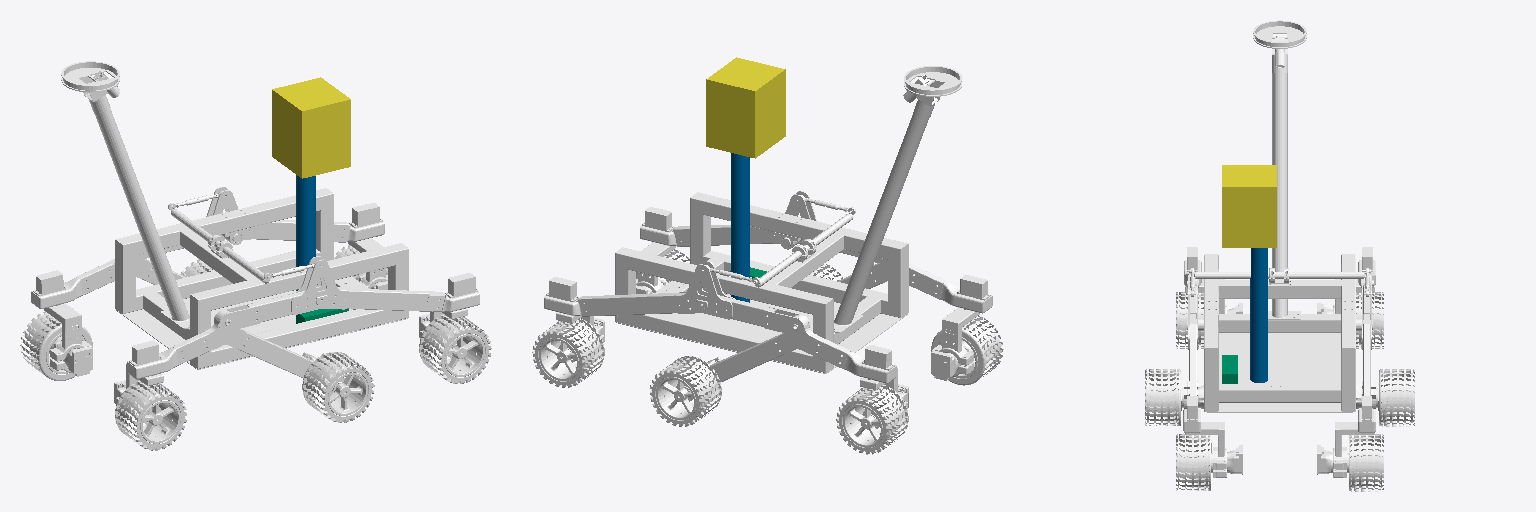
--- Facts derived from the render (not from the file) ---
Views: 3 orthographic renders of the robot side by side, from view 1: azimuth 30°, elevation 25°; view 2: azimuth 150°, elevation 25°; view 3: azimuth 270°, elevation 25°.
Robot: orthos — 45 links, 44 joints (25 revolute, 7 continuous, 1 prismatic, 11 fixed); root link base_link; default pose: all joints at 0.
Links seen in each view (by area): view 1: base_frame_link, drillmount_link, camera_mast, orthos_rocker_right, orthos_wheel_right_2, orthos_wheel_right_1, orthos_wheel_right_3, orthos_bogie_right, orthos_motor_left_3, orthos_rocker_left, mounting_plate, orthos_wheel_left_3 (+9 smaller); view 2: base_frame_link, drillmount_link, camera_mast, orthos_rocker_left, orthos_wheel_left_2, orthos_wheel_left_1, orthos_wheel_left_3, orthos_bogie_left, mounting_plate, drill_link, orthos_motor_right_3, orthos_rocker_right (+9 smaller); view 3: base_frame_link, mounting_plate, camera_mast, drillmount_link, drill_link, orthos_wheel_left_2, orthos_wheel_right_2, orthos_wheel_left_1, orthos_wheel_right_1, orthos_motor_right_1, orthos_motor_left_1, orthos_rotbar (+6 smaller).
Link boxes in pixels (box(x1,y1,x2,y2)): base_frame_link: box(115, 188, 408, 368); drillmount_link: box(272, 77, 350, 178); camera_mast: box(61, 61, 189, 328); orthos_rocker_right: box(214, 256, 445, 331); orthos_wheel_right_2: box(302, 352, 374, 422); orthos_wheel_right_1: box(419, 314, 491, 383); orthos_wheel_right_3: box(115, 381, 186, 450); orthos_bogie_right: box(172, 310, 313, 378); orthos_motor_left_3: box(44, 303, 92, 376); orthos_rocker_left: box(136, 187, 349, 260); mounting_plate: box(116, 276, 407, 369); orthos_wheel_left_3: box(20, 312, 92, 380); base_frame_link: box(615, 192, 908, 372); drillmount_link: box(706, 57, 785, 158); camera_mast: box(834, 66, 961, 333); orthos_rocker_left: box(578, 261, 809, 335); orthos_wheel_left_2: box(650, 356, 721, 426); orthos_wheel_left_1: box(532, 318, 604, 387); orthos_wheel_left_3: box(836, 385, 908, 454); orthos_bogie_left: box(710, 315, 850, 381); mounting_plate: box(616, 281, 907, 373); drill_link: box(731, 153, 749, 302); orthos_motor_right_3: box(931, 307, 979, 380); orthos_rocker_right: box(673, 191, 887, 264); base_frame_link: box(1204, 254, 1355, 411); mounting_plate: box(1207, 333, 1352, 412); camera_mast: box(1253, 20, 1306, 319); drillmount_link: box(1222, 165, 1276, 247); drill_link: box(1250, 248, 1267, 382); orthos_wheel_left_2: box(1379, 369, 1414, 426); orthos_wheel_right_2: box(1145, 369, 1180, 425); orthos_wheel_left_1: box(1349, 434, 1383, 491); orthos_wheel_right_1: box(1176, 434, 1211, 490); orthos_motor_right_1: box(1185, 422, 1242, 477); orthos_motor_left_1: box(1317, 422, 1374, 477); orthos_rotbar: box(1194, 268, 1364, 283).
Bounding box of the posed robot: 1.09 × 0.7545 × 0.9748 m (x, y, z).
26 mesh visuals loaded from 21 distinct referenced files (14 binary STL); not drawn: 7 (reference not matched to a file when rendering).

robot.urdf — orthos:
<?xml version="1.0" ?>
<!-- =================================================================================== -->
<!-- |    This document was autogenerated by xacro from orthos.xacro                   | -->
<!-- |    EDITING THIS FILE BY HAND IS NOT RECOMMENDED                                 | -->
<!-- =================================================================================== -->
<robot name="orthos">
  <!-- <xacro:include filename="$(find orthos_description)/urdf/ROS/orthos_arm_joint_pub.xacro"/>-->
  <!--<xacro:include filename="$(find orthos_description)/urdf/ROS/orthos_joint_pub.xacro" />

  <xacro:include filename="$(find orthos_description)/urdf/ROS/orthos_drive.xacro" />-->
  <link name="base_link"/>
  <link name="base_frame_link">
    <inertial>
      <origin rpy="0 0 0" xyz="0 0 0"/>
      <mass value="10"/>
      <inertia ixx="0.003" ixy="0" ixz="0" iyy="0.09" iyz="0" izz="0.09"/>
    </inertial>
    <visual>
      <origin rpy="0 0 0" xyz="0 0 0"/>
      <geometry>
        <mesh filename="package://orthos_description/meshes/base_frame.stl"/>
      </geometry>
      <material name="white">
        <color rgba="1 1 1 1"/>
      </material>
    </visual>
    <collision>
      <origin rpy="0 0 0" xyz="0 0 0"/>
      <geometry>
        <box size="0.8 0.160 0.040"/>
      </geometry>
    </collision>
  </link>
  <joint name="base_frame_joint" type="fixed">
    <origin rpy="0 0 0" xyz="0 0 0"/>
    <parent link="base_link"/>
    <child link="base_frame_link"/>
    <axis xyz="0 0 0"/>
  </joint>
  <!-- Rocker -->
  <link name="orthos_rocker_left">
    <inertial>
      <origin rpy="0 0 0" xyz="0 0 0"/>
      <mass value="1"/>
      <inertia ixx="0.316" ixy="0" ixz="0" iyy="0.166" iyz="0" izz="0.307"/>
    </inertial>
    <visual>
      <origin rpy="0 0 0" xyz="0 0 0"/>
      <geometry>
        <mesh filename="package://orthos_description/meshes/rocker_left.stl"/>
      </geometry>
      <material name="white">
        <color rgba="1 1 1 1"/>
      </material>
    </visual>
    <collision>
      <origin rpy="0 0 0" xyz="0 0 0"/>
      <geometry>
        <mesh filename="package://orthos_description/meshes/rocker_left.stl"/>
      </geometry>
    </collision>
  </link>
  <joint name="orthos_rocker_left_joint" type="revolute">
    <origin rpy="0 0 -1.5708" xyz="0.1502 0.24465 -0.060115"/>
    <limit effort="100" lower="-1.5708" upper="1.5708" velocity="3"/>
    <parent link="base_frame_link"/>
    <child link="orthos_rocker_left"/>
    <axis xyz="1 0 0"/>
  </joint>
  <!-- Bogie -->
  <link name="orthos_bogie_left">
    <inertial>
      <origin rpy="0 0 0" xyz="0 0 0"/>
      <mass value="1"/>
      <inertia ixx="0.1" ixy="0" ixz="0" iyy="0.1" iyz="0" izz="0.1"/>
    </inertial>
    <visual>
      <origin rpy="0 0 0" xyz="0 0 0"/>
      <geometry>
        <mesh filename="package://orthos_description/meshes/bogie_left.stl"/>
      </geometry>
      <material name="white">
        <color rgba="1 1 1 1"/>
      </material>
    </visual>
    <collision>
      <origin rpy="0 0 0" xyz="0 0 0"/>
      <geometry>
        <mesh filename="package://orthos_description/meshes/bogie_left.stl"/>
      </geometry>
    </collision>
  </link>
  <joint name="orthos_bogie_left_joint" type="revolute">
    <origin rpy="0 0 0" xyz="0 -0.276262 0"/>
    <limit effort="100" lower="-1.5708" upper="1.5708" velocity="3"/>
    <parent link="orthos_rocker_left"/>
    <child link="orthos_bogie_left"/>
    <axis xyz="1 0 0"/>
  </joint>
  <!-- Turn motor front-->
  <link name="orthos_turn_left_front">
    <inertial>
      <origin rpy="0 0 0" xyz="0 0 0"/>
      <mass value="1"/>
      <inertia ixx="0.1" ixy="0" ixz="0" iyy="0.1" iyz="0" izz="0.1"/>
    </inertial>
    <visual>
      <origin rpy="0 0 0" xyz="0 0 0"/>
      <geometry>
        <mesh filename="package://orthos_description/meshes/turn.stl"/>
      </geometry>
      <material name="white">
        <color rgba="1 1 1 1"/>
      </material>
    </visual>
    <collision>
      <origin rpy="0 0 0" xyz="0 0 0"/>
      <geometry>
        <mesh filename="package://orthos_description/meshes/turn.stl"/>
      </geometry>
    </collision>
  </link>
  <joint name="orthos_turn_left_front_joint" type="fixed">
    <origin rpy="0 0 0" xyz="0 0.364 -0.097"/>
    <parent link="orthos_rocker_left"/>
    <child link="orthos_turn_left_front"/>
    <axis xyz="0 0 0"/>
  </joint>
  <!-- Motor and wheel mounting-->
  <link name="orthos_motor_left_1">
    <inertial>
      <origin rpy="0 0 0" xyz="0 0 0"/>
      <mass value="1"/>
      <inertia ixx="0.1" ixy="0" ixz="0" iyy="0.1" iyz="0" izz="0.1"/>
    </inertial>
    <visual>
      <origin rpy="0 0 0" xyz="0 0 0"/>
      <geometry>
        <mesh filename="package://orthos_description/meshes/motor.stl"/>
      </geometry>
      <material name="white">
        <color rgba="1 1 1 1"/>
      </material>
    </visual>
    <collision>
      <origin rpy="0 0 0" xyz="0 0 0"/>
      <geometry>
        <mesh filename="package://orthos_description/meshes/motor.stl"/>
      </geometry>
    </collision>
  </link>
  <joint name="orthos_motor_left_1_joint" type="revolute">
    <origin rpy="0 0 0" xyz="0 0.04 -0.14"/>
    <limit effort="100" lower="-0.523599" upper="0.523599" velocity="3"/>
    <parent link="orthos_turn_left_front"/>
    <child link="orthos_motor_left_1"/>
    <axis xyz="0 0 1"/>
  </joint>
  <!-- Wheel front -->
  <link name="orthos_wheel_left_1">
    <inertial>
      <origin rpy="0 0 0" xyz="0 0 0"/>
      <mass value="1"/>
      <inertia ixx="0.1" ixy="0" ixz="0" iyy="0.1" iyz="0" izz="0.1"/>
    </inertial>
    <visual>
      <origin rpy="0 0 0" xyz="0 0 0"/>
      <geometry>
        <mesh filename="package://orthos_description/meshes/wheel.stl"/>
      </geometry>
      <material name="white">
        <color rgba="1 1 1 1"/>
      </material>
    </visual>
    <collision>
      <origin rpy="0 0 0" xyz="0 0 0"/>
      <geometry>
        <mesh filename="package://orthos_description/meshes/wheel.stl"/>
      </geometry>
    </collision>
  </link>
  <joint name="orthos_wheel_left_1_joint" type="continuous">
    <origin rpy="0 0 0" xyz="0 0 0"/>
    <parent link="orthos_motor_left_1"/>
    <child link="orthos_wheel_left_1"/>
    <axis xyz="1 0 0"/>
  </joint>
  <!-- Motor mid -->
  <link name="orthos_motor_left_2">
    <inertial>
      <origin rpy="0 0 0" xyz="0 0 0"/>
      <mass value="1"/>
      <inertia ixx="0.1" ixy="0" ixz="0" iyy="0.1" iyz="0" izz="0.1"/>
    </inertial>
    <visual>
      <origin rpy="0 0 0" xyz="0 0 0"/>
      <geometry>
        <mesh filename="package://orthos_description/meshes/motor_mid.stl"/>
      </geometry>
      <material name="white">
        <color rgba="1 1 1 1"/>
      </material>
    </visual>
    <collision>
      <origin rpy="0 0 0" xyz="0 0 0"/>
      <geometry>
        <mesh filename="package://orthos_description/meshes/motor_mid.stl"/>
      </geometry>
    </collision>
  </link>
  <joint name="orthos_motor_left_2_joint" type="fixed">
    <origin rpy="0 0 0" xyz="-0.0305 0.2852 -0.2205"/>
    <limit effort="100" lower="-0.523599" upper="0.523599" velocity="3"/>
    <parent link="orthos_bogie_left"/>
    <child link="orthos_motor_left_2"/>
    <axis xyz="1 0 0"/>
  </joint>
  <!-- Wheel mid -->
  <link name="orthos_wheel_left_2">
    <inertial>
      <origin rpy="0 0 0" xyz="0 0 0"/>
      <mass value="1"/>
      <inertia ixx="0.1" ixy="0" ixz="0" iyy="0.1" iyz="0" izz="0.1"/>
    </inertial>
    <visual>
      <origin rpy="0 0 0" xyz="0 0 0"/>
      <geometry>
        <mesh filename="package://orthos_description/meshes/wheel.stl"/>
      </geometry>
      <material name="white">
        <color rgba="1 1 1 1"/>
      </material>
    </visual>
    <collision>
      <origin rpy="0 0 0" xyz="0 0 0"/>
      <geometry>
        <mesh filename="package://orthos_description/meshes/motor.stl"/>
      </geometry>
    </collision>
  </link>
  <joint name="orthos_wheel_left_2_joint" type="continuous">
    <origin rpy="0 0 0" xyz="-0.055 0 0"/>
    <parent link="orthos_motor_left_2"/>
    <child link="orthos_wheel_left_2"/>
    <axis xyz="1 0 0"/>
  </joint>
  <!-- Turn motor rear -->
  <link name="orthos_turn_left_rear">
    <inertial>
      <origin rpy="0 0 0" xyz="0 0 0"/>
      <mass value="1"/>
      <inertia ixx="0.1" ixy="0" ixz="0" iyy="0.1" iyz="0" izz="0.1"/>
    </inertial>
    <visual>
      <origin rpy="0 0 0" xyz="0 0 0"/>
      <geometry>
        <mesh filename="package://orthos_description/meshes/turn_rear.stl"/>
      </geometry>
      <material name="white">
        <color rgba="1 1 1 1"/>
      </material>
    </visual>
    <collision>
      <origin rpy="0 0 0" xyz="0 0 0"/>
      <geometry>
        <mesh filename="package://orthos_description/meshes/turn_rear.stl"/>
      </geometry>
    </collision>
  </link>
  <joint name="orthos_turn_left_rear_joint" type="fixed">
    <origin rpy="0 0 0" xyz="0 -0.217 -0.0653"/>
    <parent link="orthos_bogie_left"/>
    <child link="orthos_turn_left_rear"/>
    <axis xyz="0 0 0"/>
  </joint>
  <!-- Motor and wheel mounting rear-->
  <link name="orthos_motor_left_3">
    <inertial>
      <origin rpy="0 0 0" xyz="0 0 0"/>
      <mass value="1"/>
      <inertia ixx="0.1" ixy="0" ixz="0" iyy="0.1" iyz="0" izz="0.1"/>
    </inertial>
    <visual>
      <origin rpy="0 0 0" xyz="0 0 0"/>
      <geometry>
        <mesh filename="package://orthos_description/meshes/motor.stl"/>
      </geometry>
      <material name="white">
        <color rgba="1 1 1 1"/>
      </material>
    </visual>
    <collision>
      <origin rpy="0 0 0" xyz="0 0 0"/>
      <geometry>
        <mesh filename="package://orthos_description/meshes/motor.stl"/>
      </geometry>
    </collision>
  </link>
  <joint name="orthos_motor_left_3_joint" type="revolute">
    <origin rpy="0 0 0" xyz="0 0 -0.15"/>
    <limit effort="100" lower="-0.523599" upper="0.523599" velocity="3"/>
    <parent link="orthos_turn_left_rear"/>
    <child link="orthos_motor_left_3"/>
    <axis xyz="0 0 1"/>
  </joint>
  <link name="orthos_wheel_left_3">
    <inertial>
      <origin rpy="0 0 0" xyz="0 0 0"/>
      <mass value="1"/>
      <inertia ixx="0.1" ixy="0" ixz="0" iyy="0.1" iyz="0" izz="0.1"/>
    </inertial>
    <visual>
      <origin rpy="0 0 0" xyz="0 0 0"/>
      <geometry>
        <mesh filename="package://orthos_description/meshes/wheel.stl"/>
      </geometry>
      <material name="white">
        <color rgba="1 1 1 1"/>
      </material>
    </visual>
    <collision>
      <origin rpy="0 0 0" xyz="0 0 0"/>
      <geometry>
        <mesh filename="package://orthos_description/meshes/wheel.stl"/>
      </geometry>
    </collision>
  </link>
  <joint name="orthos_wheel_left_3_joint" type="continuous">
    <origin rpy="0 0 0" xyz="0 0 0"/>
    <parent link="orthos_motor_left_3"/>
    <child link="orthos_wheel_left_3"/>
    <axis xyz="1 0 0"/>
  </joint>
  <transmission name="trans_wheel_left_1">
    <type>transmission_interface/SimpleTransmission</type>
    <joint name="orthos_wheel_left_1_joint">
      <hardwareInterface>hardware_interface/VelocityJointInterface</hardwareInterface>
    </joint>
    <actuator name="motor_wheel_left_1">
      <mechanicalReduction>100</mechanicalReduction>
    </actuator>
  </transmission>
  <transmission name="trans_wheel_left_2">
    <type>transmission_interface/SimpleTransmission</type>
    <joint name="orthos_wheel_left_2_joint">
      <hardwareInterface>hardware_interface/VelocityJointInterface</hardwareInterface>
    </joint>
    <actuator name="motor_wheel_left_2">
      <mechanicalReduction>100</mechanicalReduction>
    </actuator>
  </transmission>
  <transmission name="trans_wheel_left_3">
    <type>transmission_interface/SimpleTransmission</type>
    <joint name="orthos_wheel_left_3_joint">
      <hardwareInterface>hardware_interface/VelocityJointInterface</hardwareInterface>
    </joint>
    <actuator name="motor_wheel_left_3">
      <mechanicalReduction>100</mechanicalReduction>
    </actuator>
  </transmission>
  <transmission name="trans_turn_left_front">
    <type>transmission_interface/SimpleTransmission</type>
    <joint name="orthos_motor_left_1_joint">
      <hardwareInterface>hardware_interface/PositionJointInterface</hardwareInterface>
    </joint>
    <actuator name="motor_turn_left_front">
      <mechanicalReduction>100</mechanicalReduction>
    </actuator>
  </transmission>
  <transmission name="trans_motor_left_rear">
    <type>transmission_interface/SimpleTransmission</type>
    <joint name="orthos_motor_left_3_joint">
      <hardwareInterface>hardware_interface/PositionJointInterface</hardwareInterface>
    </joint>
    <actuator name="motor_turn_left_rear">
      <mechanicalReduction>100</mechanicalReduction>
    </actuator>
  </transmission>
  <link name="orthos_rocker_right">
    <inertial>
      <origin rpy="0 0 0" xyz="0 0 0"/>
      <mass value="1"/>
      <inertia ixx="0.316" ixy="0" ixz="0" iyy="0.166" iyz="0" izz="0.307"/>
    </inertial>
    <visual>
      <origin rpy="0 0 0" xyz="0 0 0"/>
      <geometry>
        <mesh filename="package://orthos_description/meshes/rocker_right.stl"/>
      </geometry>
      <material name="white">
        <color rgba="1 1 1 1"/>
      </material>
    </visual>
    <collision>
      <origin rpy="0 0 0" xyz="0 0 0"/>
      <geometry>
        <mesh filename="package://orthos_description/meshes/rocker_right.stl"/>
      </geometry>
    </collision>
  </link>
  <joint name="orthos_rocker_right_joint" type="revolute">
    <origin rpy="0 0 1.5708" xyz="0.1502 -0.24465 -0.060115"/>
    <limit effort="100" lower="-1.5708" upper="1.5708" velocity="3"/>
    <parent link="base_frame_link"/>
    <child link="orthos_rocker_right"/>
    <axis xyz="1 0 0"/>
  </joint>
  <link name="orthos_bogie_right">
    <inertial>
      <origin rpy="0 0 0" xyz="0 0 0"/>
      <mass value="1"/>
      <inertia ixx="0.1" ixy="0" ixz="0" iyy="0.1" iyz="0" izz="0.1"/>
    </inertial>
    <visual>
      <origin rpy="0 0 0" xyz="0 0 0"/>
      <geometry>
        <mesh filename="package://orthos_description/meshes/bogie_right.stl"/>
      </geometry>
      <material name="white">
        <color rgba="1 1 1 1"/>
      </material>
    </visual>
    <collision>
      <origin rpy="0 0 0" xyz="0 0 0"/>
      <geometry>
        <mesh filename="package://orthos_description/meshes/bogie_right.stl"/>
      </geometry>
    </collision>
  </link>
  <joint name="orthos_bogie_right_joint" type="revolute">
    <origin rpy="0 0 0" xyz="0 0.276262 0"/>
    <limit effort="100" lower="-1.5708" upper="1.5708" velocity="3"/>
    <parent link="orthos_rocker_right"/>
    <child link="orthos_bogie_right"/>
    <axis xyz="1 0 0"/>
  </joint>
  <link name="orthos_turn_right_front">
    <inertial>
      <origin rpy="0 0 0" xyz="0 0 0"/>
      <mass value="1"/>
      <inertia ixx="0.1" ixy="0" ixz="0" iyy="0.1" iyz="0" izz="0.1"/>
    </inertial>
    <visual>
      <origin rpy="0 0 0" xyz="0 0 0"/>
      <geometry>
        <mesh filename="package://orthos_description/meshes/turn.stl"/>
      </geometry>
      <material name="white">
        <color rgba="1 1 1 1"/>
      </material>
    </visual>
    <collision>
      <origin rpy="0 0 0" xyz="0 0 0"/>
      <geometry>
        <mesh filename="package://orthos_description/meshes/turn.stl"/>
      </geometry>
    </collision>
  </link>
  <joint name="orthos_turn_right_front_joint" type="fixed">
    <origin rpy="0 0 3.1415" xyz="0 -0.364 -0.097"/>
    <parent link="orthos_rocker_right"/>
    <child link="orthos_turn_right_front"/>
    <axis xyz="0 0 0"/>
  </joint>
  <link name="orthos_motor_right_1">
    <inertial>
      <origin rpy="0 0 0" xyz="0 0 0"/>
      <mass value="1"/>
      <inertia ixx="0.1" ixy="0" ixz="0" iyy="0.1" iyz="0" izz="0.1"/>
    </inertial>
    <visual>
      <origin rpy="0 0 0" xyz="0 0 0"/>
      <geometry>
        <mesh filename="package://orthos_description/meshes/motor.stl"/>
      </geometry>
      <material name="white">
        <color rgba="1 1 1 1"/>
      </material>
    </visual>
    <collision>
      <origin rpy="0 0 0" xyz="0 0 0"/>
      <geometry>
        <mesh filename="package://orthos_description/meshes/motor.stl"/>
      </geometry>
    </collision>
  </link>
  <joint name="orthos_motor_right_1_joint" type="revolute">
    <origin rpy="0 0 3.1415" xyz="0 0.04 -0.14"/>
    <limit effort="100" lower="-0.523599" upper="0.523599" velocity="3"/>
    <parent link="orthos_turn_right_front"/>
    <child link="orthos_motor_right_1"/>
    <axis xyz="0 0 1"/>
  </joint>
  <link name="orthos_wheel_right_1">
    <inertial>
      <origin rpy="0 0 0" xyz="0 0 0"/>
      <mass value="1"/>
      <inertia ixx="0.1" ixy="0" ixz="0" iyy="0.1" iyz="0" izz="0.1"/>
    </inertial>
    <visual>
      <origin rpy="0 0 0" xyz="0 0 0"/>
      <geometry>
        <mesh filename="package://orthos_description/meshes/wheel.stl"/>
      </geometry>
      <material name="white">
        <color rgba="1 1 1 1"/>
      </material>
    </visual>
    <collision>
      <origin rpy="0 0 0" xyz="0 0 0"/>
      <geometry>
        <mesh filename="package://orthos_description/meshes/wheel.stl"/>
      </geometry>
    </collision>
  </link>
  <joint name="orthos_wheel_right_1_joint" type="continuous">
    <origin rpy="0 0 0" xyz="0 0 0"/>
    <parent link="orthos_motor_right_1"/>
    <child link="orthos_wheel_right_1"/>
    <axis xyz="1 0 0"/>
  </joint>
  <link name="orthos_motor_right_2">
    <inertial>
      <origin rpy="0 0 0" xyz="0 0 0"/>
      <mass value="1"/>
      <inertia ixx="0.1" ixy="0" ixz="0" iyy="0.1" iyz="0" izz="0.1"/>
    </inertial>
    <visual>
      <origin rpy="0 0 0" xyz="0 0 0"/>
      <geometry>
        <mesh filename="package://orthos_description/meshes/motor_mid.stl"/>
      </geometry>
      <material name="white">
        <color rgba="1 1 1 1"/>
      </material>
    </visual>
    <collision>
      <origin rpy="0 0 0" xyz="0 0 0"/>
      <geometry>
        <mesh filename="package://orthos_description/meshes/motor_mid.stl"/>
      </geometry>
    </collision>
  </link>
  <joint name="orthos_motor_right_2_joint" type="fixed">
    <origin rpy="-1.97920340718 0 0" xyz="-0.0305 -0.2852 -0.2205"/>
    <limit effort="100" lower="-0.523599" upper="0.523599" velocity="3"/>
    <parent link="orthos_bogie_right"/>
    <child link="orthos_motor_right_2"/>
    <axis xyz="1 0 0"/>
  </joint>
  <link name="orthos_wheel_right_2">
    <inertial>
      <origin rpy="0 0 0" xyz="0 0 0"/>
      <mass value="1"/>
      <inertia ixx="0.1" ixy="0" ixz="0" iyy="0.1" iyz="0" izz="0.1"/>
    </inertial>
    <visual>
      <origin rpy="0 0 0" xyz="0 0 0"/>
      <geometry>
        <mesh filename="package://orthos_description/meshes/wheel.stl"/>
      </geometry>
      <material name="white">
        <color rgba="1 1 1 1"/>
      </material>
    </visual>
    <collision>
      <origin rpy="0 0 0" xyz="0 0 0"/>
      <geometry>
        <mesh filename="package://orthos_description/meshes/motor.stl"/>
      </geometry>
    </collision>
  </link>
  <joint name="orthos_wheel_right_2_joint" type="continuous">
    <origin rpy="0 0 0" xyz="-0.055 0 0"/>
    <parent link="orthos_motor_right_2"/>
    <child link="orthos_wheel_right_2"/>
    <axis xyz="1 0 0"/>
  </joint>
  <link name="orthos_turn_right_rear">
    <inertial>
      <origin rpy="0 0 0" xyz="0 0 0"/>
      <mass value="1"/>
      <inertia ixx="0.1" ixy="0" ixz="0" iyy="0.1" iyz="0" izz="0.1"/>
    </inertial>
    <visual>
      <origin rpy="0 0 0" xyz="0 0 0"/>
      <geometry>
        <mesh filename="package://orthos_description/meshes/turn_rear.stl"/>
      </geometry>
      <material name="white">
        <color rgba="1 1 1 1"/>
      </material>
    </visual>
    <collision>
      <origin rpy="0 0 0" xyz="0 0 0"/>
      <geometry>
        <mesh filename="package://orthos_description/meshes/turn_rear.stl"/>
      </geometry>
    </collision>
  </link>
  <joint name="orthos_turn_right_rear_joint" type="fixed">
    <origin rpy="0 0 3.1415" xyz="0 0.217 -0.0653"/>
    <parent link="orthos_bogie_right"/>
    <child link="orthos_turn_right_rear"/>
    <axis xyz="0 0 0"/>
  </joint>
  <link name="orthos_motor_right_3">
    <inertial>
      <origin rpy="0 0 0" xyz="0 0 0"/>
      <mass value="1"/>
      <inertia ixx="0.1" ixy="0" ixz="0" iyy="0.1" iyz="0" izz="0.1"/>
    </inertial>
    <visual>
      <origin rpy="0 0 0" xyz="0 0 0"/>
      <geometry>
        <mesh filename="package://orthos_description/meshes/motor.stl"/>
      </geometry>
      <material name="white">
        <color rgba="1 1 1 1"/>
      </material>
    </visual>
    <collision>
      <origin rpy="0 0 0" xyz="0 0 0"/>
      <geometry>
        <mesh filename="package://orthos_description/meshes/motor.stl"/>
      </geometry>
    </collision>
  </link>
  <joint name="orthos_motor_right_3_joint" type="revolute">
    <origin rpy="0 0 3.1415" xyz="0 0 -0.15"/>
    <limit effort="100" lower="-0.523599" upper="0.523599" velocity="3"/>
    <parent link="orthos_turn_right_rear"/>
    <child link="orthos_motor_right_3"/>
    <axis xyz="0 0 1"/>
  </joint>
  <link name="orthos_wheel_right_3">
    <inertial>
      <origin rpy="0 0 0" xyz="0 0 0"/>
      <mass value="1"/>
      <inertia ixx="0.1" ixy="0" ixz="0" iyy="0.1" iyz="0" izz="0.1"/>
    </inertial>
    <visual>
      <origin rpy="0 0 0" xyz="0 0 0"/>
      <geometry>
        <mesh filename="package://orthos_description/meshes/wheel.stl"/>
      </geometry>
      <material name="white">
        <color rgba="1 1 1 1"/>
      </material>
    </visual>
    <collision>
      <origin rpy="0 0 0" xyz="0 0 0"/>
      <geometry>
        <mesh filename="package://orthos_description/meshes/wheel.stl"/>
      </geometry>
    </collision>
  </link>
  <joint name="orthos_wheel_right_3_joint" type="continuous">
    <origin rpy="0 0 0" xyz="0 0 0"/>
    <parent link="orthos_motor_right_3"/>
    <child link="orthos_wheel_right_3"/>
    <axis xyz="1 0 0"/>
  </joint>
  <transmission name="trans_wheel_right_1">
    <type>transmission_interface/SimpleTransmission</type>
    <joint name="orthos_wheel_right_1_joint">
      <hardwareInterface>hardware_interface/VelocityJointInterface</hardwareInterface>
      <!-- <hardwareInterface>hardware_interface/EffortJointInterface</hardwareInterface> 
      Just with RobotHW, not with Gazebo-->
    </joint>
    <actuator name="motor_wheel_right_1">
      <mechanicalReduction>100</mechanicalReduction>
    </actuator>
  </transmission>
  <transmission name="trans_wheel_right_2">
    <type>transmission_interface/SimpleTransmission</type>
    <joint name="orthos_wheel_right_2_joint">
      <hardwareInterface>hardware_interface/VelocityJointInterface</hardwareInterface>
    </joint>
    <actuator name="motor_wheel_right_2">
      <mechanicalReduction>100</mechanicalReduction>
    </actuator>
  </transmission>
  <transmission name="trans_wheel_right_3">
    <type>transmission_interface/SimpleTransmission</type>
    <joint name="orthos_wheel_right_3_joint">
      <hardwareInterface>hardware_interface/VelocityJointInterface</hardwareInterface>
    </joint>
    <actuator name="motor_wheel_right_3">
      <mechanicalReduction>100</mechanicalReduction>
    </actuator>
  </transmission>
  <transmission name="trans_turn_right_front">
    <type>transmission_interface/SimpleTransmission</type>
    <joint name="orthos_motor_right_1_joint">
      <hardwareInterface>hardware_interface/PositionJointInterface</hardwareInterface>
    </joint>
    <actuator name="motor_turn_right_front">
      <mechanicalReduction>100</mechanicalReduction>
    </actuator>
  </transmission>
  <transmission name="trans_turn_right_rear">
    <type>transmission_interface/SimpleTransmission</type>
    <joint name="orthos_motor_right_3_joint">
      <hardwareInterface>hardware_interface/PositionJointInterface</hardwareInterface>
    </joint>
    <actuator name="motor_wheel_right_3">
      <mechanicalReduction>100</mechanicalReduction>
    </actuator>
  </transmission>
  <link name="virtual_link_1">
    <inertial>
      <mass value="0.025"/>
      <inertia ixx="5.8083e-4" ixy="0" ixz="0" iyy="3.0833e-5" iyz="0" izz="5.9083e-4"/>
    </inertial>
  </link>
  <link name="virtual_link_2">
    <inertial>
      <mass value="0.025"/>
      <inertia ixx="5.8083e-4" ixy="0" ixz="0" iyy="3.0833e-5" iyz="0" izz="5.9083e-4"/>
    </inertial>
  </link>
  <link name="virtual_link_3">
    <inertial>
      <mass value="0.025"/>
      <inertia ixx="5.8083e-4" ixy="0" ixz="0" iyy="3.0833e-5" iyz="0" izz="5.9083e-4"/>
    </inertial>
  </link>
  <link name="virtual_link_4">
    <inertial>
      <mass value="0.025"/>
      <inertia ixx="5.8083e-4" ixy="0" ixz="0" iyy="3.0833e-5" iyz="0" izz="5.9083e-4"/>
    </inertial>
  </link>
  <joint name="right_rocker_virtual_1" type="revolute">
    <origin rpy="0 0 0" xyz="0 0.002 0.095"/>
    <limit effort="100" lower="-0.349066" upper="0.349066" velocity="3"/>
    <parent link="orthos_rocker_right"/>
    <child link="virtual_link_1"/>
    <axis xyz="1 0 0"/>
  </joint>
  <joint name="virtual_1_2" type="revolute">
    <origin rpy="0 0 0" xyz="0 0 0"/>
    <limit effort="100" lower="-0.349066" upper="0.349066" velocity="3"/>
    <parent link="virtual_link_1"/>
    <child link="virtual_link_2"/>
    <axis xyz="0 1 0"/>
  </joint>
  <link name="orthos_spanner_right">
    <inertial>
      <origin rpy="0 0 0" xyz="0 0 0"/>
      <mass value="1"/>
      <inertia ixx="0.1" ixy="0" ixz="0" iyy="0.1" iyz="0" izz="0.1"/>
    </inertial>
    <visual>
      <origin rpy="0 0 0" xyz="0 0 0"/>
      <geometry>
        <mesh filename="package://orthos_description/meshes/spanner.stl"/>
      </geometry>
      <material name="white">
        <color rgba="1 1 1 1"/>
      </material>
    </visual>
    <collision>
      <origin rpy="0 0 0" xyz="0 0 0"/>
      <geometry>
        <mesh filename="package://orthos_description/meshes/spanner.stl"/>
      </geometry>
    </collision>
  </link>
  <joint name="virtual_2_spanner_right" type="revolute">
    <origin rpy="0 0 0" xyz="0 0 0"/>
    <limit effort="100" lower="-0.349066" upper="0.349066" velocity="3"/>
    <parent link="virtual_link_2"/>
    <child link="orthos_spanner_right"/>
    <axis xyz="0 0 1"/>
  </joint>
  <joint name="spanner_right_virtual_3" type="revolute">
    <origin rpy="0 0 0" xyz="0 0.1505 0"/>
    <limit effort="100" lower="-0.349066" upper="0.349066" velocity="3"/>
    <parent link="orthos_spanner_right"/>
    <child link="virtual_link_3"/>
    <axis xyz="1 0 0"/>
  </joint>
  <joint name="rotbar_virtual_4" type="revolute">
    <origin rpy="0 0 0" xyz="0 0.235 0"/>
    <limit effort="100" lower="-0.349066" upper="0.349066" velocity="3"/>
    <parent link="orthos_rotbar"/>
    <child link="virtual_link_4"/>
    <axis xyz="1 0 0"/>
    <!-- X axis of base_frame is y-axis of right_rocker which should be the axis here-->
  </joint>
  <link name="virtual_link_5">
    <inertial>
      <mass value="0.025"/>
      <inertia ixx="5.8083e-4" ixy="0" ixz="0" iyy="3.0833e-5" iyz="0" izz="5.9083e-4"/>
    </inertial>
  </link>
  <link name="virtual_link_6">
    <inertial>
      <mass value="0.025"/>
      <inertia ixx="5.8083e-4" ixy="0" ixz="0" iyy="3.0833e-5" iyz="0" izz="5.9083e-4"/>
    </inertial>
  </link>
  <link name="virtual_link_7">
    <inertial>
      <mass value="0.025"/>
      <inertia ixx="5.8083e-4" ixy="0" ixz="0" iyy="3.0833e-5" iyz="0" izz="5.9083e-4"/>
    </inertial>
  </link>
  <link name="virtual_link_8">
    <inertial>
      <mass value="0.025"/>
      <inertia ixx="5.8083e-4" ixy="0" ixz="0" iyy="3.0833e-5" iyz="0" izz="5.9083e-4"/>
    </inertial>
  </link>
  <joint name="left_rocker_virtual_5" type="revolute">
    <origin rpy="0 0 0" xyz="0 -0.002 0.095"/>
    <limit effort="100" lower="-0.349066" upper="0.349066" velocity="3"/>
    <parent link="orthos_rocker_left"/>
    <child link="virtual_link_5"/>
    <axis xyz="1 0 0"/>
  </joint>
  <joint name="virtual_5_6" type="revolute">
    <origin rpy="0 0 0" xyz="0 0 0"/>
    <limit effort="100" lower="-0.349066" upper="0.349066" velocity="3"/>
    <parent link="virtual_link_5"/>
    <child link="virtual_link_6"/>
    <axis xyz="0 1 0"/>
  </joint>
  <link name="orthos_spanner_left">
    <inertial>
      <origin rpy="0 0 0" xyz="0 0 0"/>
      <mass value="1"/>
      <inertia ixx="0.1" ixy="0" ixz="0" iyy="0.1" iyz="0" izz="0.1"/>
    </inertial>
    <visual>
      <origin rpy="0 0 0" xyz="0 0 0"/>
      <geometry>
        <mesh filename="package://orthos_description/meshes/spanner.stl"/>
      </geometry>
      <material name="white">
        <color rgba="1 1 1 1"/>
      </material>
    </visual>
    <collision>
      <origin rpy="0 0 0" xyz="0 0 0"/>
      <geometry>
        <mesh filename="package://orthos_description/meshes/spanner.stl"/>
      </geometry>
    </collision>
  </link>
  <joint name="virtual_6_spanner_left" type="revolute">
    <origin rpy="3.1415 0 0" xyz="0 0 0"/>
    <limit effort="100" lower="-0.349066" upper="0.349066" velocity="3"/>
    <parent link="virtual_link_6"/>
    <child link="orthos_spanner_left"/>
    <axis xyz="0 0 1"/>
  </joint>
  <joint name="spanner_left_virtual_7" type="revolute">
    <origin rpy="0 0 0" xyz="0 0.1505 0"/>
    <limit effort="100" lower="-0.349066" upper="0.349066" velocity="3"/>
    <parent link="orthos_spanner_left"/>
    <child link="virtual_link_7"/>
    <axis xyz="1 0 0"/>
  </joint>
  <joint name="rotbar_virtual_8" type="revolute">
    <origin rpy="0 0 0" xyz="0 -0.235 0"/>
    <limit effort="100" lower="-0.349066" upper="0.349066" velocity="3"/>
    <parent link="orthos_rotbar"/>
    <child link="virtual_link_8"/>
    <axis xyz="1 0 0"/>
    <!-- X axis of base_frame is y-axis of right_rocker which should be the axis here-->
  </joint>
  <!-- Base frame to rotbar -->
  <link name="orthos_rotbar">
    <inertial>
      <origin rpy="0 0 0" xyz="0 0 0"/>
      <mass value="1"/>
      <inertia ixx="0.1" ixy="0" ixz="0" iyy="0.1" iyz="0" izz="0.1"/>
    </inertial>
    <visual>
      <origin rpy="0 0 0" xyz="0 0 0"/>
      <geometry>
        <mesh filename="package://orthos_description/meshes/rotbar.stl"/>
      </geometry>
      <material name="white">
        <color rgba="1 1 1 1"/>
      </material>
    </visual>
    <collision>
      <origin rpy="0 0 0" xyz="0 0 0"/>
      <geometry>
        <mesh filename="package://orthos_description/meshes/rotbar.stl"/>
      </geometry>
    </collision>
  </link>
  <joint name="orthos_rotbar_joint" type="revolute">
    <origin rpy="0 0 0" xyz="0 0 0.045"/>
    <limit effort="100" lower="-1.5708" upper="1.5708" velocity="3"/>
    <parent link="base_frame_link"/>
    <child link="orthos_rotbar"/>
    <axis xyz="0 0 1"/>
  </joint>
  <!-- Right spanner to differential and loop with base_frame-->
  <gazebo>
    <joint name="closed_loop_joint_right" type="revolute">
      <parent>virtual_link_4</parent>
      <child>virtual_link_3</child>
      <pose>0 0 0 0 0 0</pose>
      <axis>
        <xyz>1 0 0</xyz>
      </axis>
    </joint>
  </gazebo>
  <!-- Left spanner to differential and loop with base_frame-->
  <gazebo>
    <joint name="closed_loop_joint_left" type="revolute">
      <parent>virtual_link_8</parent>
      <child>virtual_link_7</child>
      <pose>0 0 0 0 0 0</pose>
      <axis>
        <xyz>1 0 0</xyz>
      </axis>
    </joint>
  </gazebo>
  <link name="camera_mast">
    <inertial>
      <origin rpy="0 0 0" xyz="0 0 0"/>
      <mass value="2.56"/>
      <inertia ixx="0.007" ixy="0" ixz="0" iyy="0.008" iyz="0" izz="0.014"/>
    </inertial>
    <visual>
      <origin rpy="0 0 0" xyz="0 0 0"/>
      <geometry>
        <mesh filename="package://orthos_description/meshes/camera_mast.stl"/>
      </geometry>
      <material name="white">
        <color rgba="1 1 1 1"/>
      </material>
    </visual>
    <collision>
      <origin rpy="0 0 0" xyz="0.08 0 -0.025"/>
      <geometry>
        <mesh filename="package://orthos_description/meshes/camera_mast.stl"/>
      </geometry>
    </collision>
  </link>
  <joint name="camera_mast_joint" type="fixed">
    <origin rpy="0 0 -1.5708" xyz="-0.1155 0 -0.1559"/>
    <parent link="base_frame_link"/>
    <child link="camera_mast"/>
    <axis xyz="0 0 0"/>
  </joint>
  <link name="mounting_plate">
    <inertial>
      <origin rpy="0 0 0" xyz="0 0 0"/>
      <mass value="4.35"/>
      <inertia ixx="0.133" ixy="0" ixz="0" iyy="0.278" iyz="0" izz="0.410"/>
    </inertial>
    <visual>
      <origin rpy="0 0 0" xyz="0 0 0"/>
      <geometry>
        <mesh filename="package://orthos_description/meshes/mounting_plate.stl"/>
      </geometry>
      <material name="white">
        <color rgba="1 1 1 1"/>
      </material>
    </visual>
    <collision>
      <origin rpy="0 0 0" xyz="0 0 0"/>
      <geometry>
        <mesh filename="package://orthos_description/meshes/mounting_plate.stl"/>
      </geometry>
    </collision>
  </link>
  <joint name="mounting_plate_joint" type="fixed">
    <origin rpy="0 0 0" xyz="0.12284 0 -0.19806"/>
    <parent link="base_frame_link"/>
    <child link="mounting_plate"/>
    <axis xyz="0 0 0"/>
  </joint>
  <!-- ++++++++++++++++++++++++++++++ PROPERTIES ++++++++++++++++++++++++++++++ -->
  <!-- LINK COORDINATES AND RPY -->
  <!-- JOINT COORDINATES AND RPY -->
  <!-- JOINT AXES -->
  <!-- MESH PATHS -->
  <!-- MASSES -->
  <!-- INERTIAS -->
  <gazebo>
    <plugin filename="libgazebo_ros_control.so" name="gazebo_ros_control">
      <robotNamespace>/</robotNamespace>
      <robotSimType>gazebo_ros_control/DefaultRobotHWSim</robotSimType>
      <legacyModeNS>true</legacyModeNS>
    </plugin>
  </gazebo>
  <!-- ++++++++++++++++++++++++++++++ BASE LINK ++++++++++++++++++++++++++++++ -->
  <joint name="arm_base_joint" type="fixed">
    <parent link="base_frame_link"/>
    <child link="arm_base_link"/>
    <origin rpy="0 0 -1.5708 " xyz="0.4635 0.1776 0.0233"/>
  </joint>
  <link name="arm_base_link">
    <visual>
      <origin rpy="0 0 0" xyz="0 0 0"/>
      <geometry>
        <mesh filename="package://atalante_arm_description/meshes/Base.stl" scale="0.001 0.001 0.001"/>
      </geometry>
    </visual>
    <collision>
      <geometry>
        <mesh filename="package://atalante_arm_description/meshes/Base.stl" scale="0.001 0.001 0.001"/>
      </geometry>
    </collision>
  </link>
  <!-- ++++++++++++++++++++++++++++++ BASE JOINT ++++++++++++++++++++++++++++++ -->
  <joint name="base_joint" type="revolute">
    <parent link="arm_base_link"/>
    <child link="shoulder_link"/>
    <origin rpy="0 0 0" xyz="0 0 0.071"/>
    <limit effort="100" lower="-3.14" upper="3.14" velocity="10"/>
    <axis xyz="0 0 1"/>
  </joint>
  <!-- ++++++++++++++++++++++++++++++ BASE JOINT TRANSMISSION ++++++++++++++++++++++++++++++ -->
  <transmission name="base_joint_transmission">
    <type>transmission_interface/SimpleTransmission</type>
    <joint name="base_joint">
      <hardwareInterface>hardware_interface/PositionJointInterface</hardwareInterface>
    </joint>
    <actuator name="base_joint_actuator">
      <mechanicalReduction>100</mechanicalReduction>
      <hardwareInterface>hardware_interface/PositionJointInterface</hardwareInterface>
    </actuator>
  </transmission>
  <!-- ++++++++++++++++++++++++++++++ SHOULDER LINK ++++++++++++++++++++++++++++++ -->
  <link name="shoulder_link">
    <visual>
      <origin rpy="0 0 0" xyz="0 0 0"/>
      <geometry>
        <mesh filename="package://atalante_arm_description/meshes/Shoulder.stl" scale="0.001 0.001 0.001"/>
      </geometry>
    </visual>
    <inertial>
      <origin xyz="-1.12936485 0.29570568 58.23001957"/>
      <mass value="2.8"/>
      <inertia ixx="5729.1580306" ixy="2.845e-05" ixz="197.21313189" iyy="7045.05328785" iyz="6.062e-05" izz="6139.13243245"/>
    </inertial>
    <collision>
      <geometry>
        <mesh filename="package://atalante_arm_description/meshes/Shoulder.stl" scale="0.001 0.001 0.001"/>
      </geometry>
    </collision>
  </link>
  <!-- ++++++++++++++++++++++++++++++ SHOULDER JOINT ++++++++++++++++++++++++++++++ -->
  <joint name="shoulder_joint" type="revolute">
    <parent link="shoulder_link"/>
    <child link="upperarm_link"/>
    <origin rpy="0 0 0" xyz="0.06 0 0.077"/>
    <limit effort="100" lower="-3.14" upper="3.14" velocity="10"/>
    <axis xyz="1 0 0"/>
  </joint>
  <!-- ++++++++++++++++++++++++++++++ SHOULDER JOINT TRANSMISSION ++++++++++++++++++++++++++++++ -->
  <transmission name="shoulder_joint_transmission">
    <type>transmission_interface/SimpleTransmission</type>
    <joint name="shoulder_joint">
      <hardwareInterface>hardware_interface/PositionJointInterface</hardwareInterface>
    </joint>
    <actuator name="shoulder_joint_actuator">
      <mechanicalReduction>100</mechanicalReduction>
      <hardwareInterface>hardware_interface/PositionJointInterface</hardwareInterface>
    </actuator>
  </transmission>
  <!-- ++++++++++++++++++++++++++++++ UPPERARM LINK ++++++++++++++++++++++++++++++ -->
  <link name="upperarm_link">
    <visual>
      <origin rpy="0 0 0" xyz="0 0 0"/>
      <geometry>
        <mesh filename="package://atalante_arm_description/meshes/Upperarm.stl" scale="0.001 0.001 0.001"/>
      </geometry>
    </visual>
    <inertial>
      <origin xyz="25.63382974 461.72564539 -0.00385837"/>
      <mass value="1.6"/>
      <inertia ixx="39997.27845498" ixy="-563.40936849" ixz="0.0590568" iyy="1979.00415855" iyz="0.04589176" izz="39939.20953944"/>
    </inertial>
    <collision>
      <geometry>
        <mesh filename="package://atalante_arm_description/meshes/Upperarm.stl" scale="0.001 0.001 0.001"/>
      </geometry>
    </collision>
  </link>
  <!-- ++++++++++++++++++++++++++++++ UPPERARM JOINT ++++++++++++++++++++++++++++++ -->
  <joint name="upperarm_joint" type="revolute">
    <parent link="upperarm_link"/>
    <child link="lowerarm_link"/>
    <origin rpy="0 0 0" xyz="0.0395 0 0.52"/>
    <limit effort="100" lower="-3.14" upper="3.14" velocity="10"/>
    <axis xyz="1 0 0"/>
  </joint>
  <!-- ++++++++++++++++++++++++++++++ UPPERARM JOINT TRANSMISSION ++++++++++++++++++++++++++++++ -->
  <transmission name="upperarm_joint_transmission">
    <type>transmission_interface/SimpleTransmission</type>
    <joint name="upperarm_joint">
      <hardwareInterface>hardware_interface/PositionJointInterface</hardwareInterface>
    </joint>
    <actuator name="upperarm_joint_actuator">
      <mechanicalReduction>100</mechanicalReduction>
      <hardwareInterface>hardware_interface/PositionJointInterface</hardwareInterface>
    </actuator>
  </transmission>
  <!-- ++++++++++++++++++++++++++++++ LOWERARM LINK ++++++++++++++++++++++++++++++ -->
  <link name="lowerarm_link">
    <visual>
      <origin rpy="0 0 0" xyz="0 0 0"/>
      <geometry>
        <mesh filename="package://atalante_arm_description/meshes/Lowerarm.stl" scale="0.001 0.001 0.001"/>
      </geometry>
    </visual>
    <inertial>
      <origin xyz="-95.77939349 244.72860981 0.08668126"/>
      <mass value="0.716"/>
      <inertia ixx="6718.03087871" ixy="754.72891651" ixz="-0.02468296" iyy="1019.1480503" iyz="0.01741716" izz="7181.21058519"/>
    </inertial>
    <collision>
      <geometry>
        <mesh filename="package://atalante_arm_description/meshes/Lowerarm.stl" scale="0.001 0.001 0.001"/>
      </geometry>
    </collision>
  </link>
  <!-- ++++++++++++++++++++++++++++++ LOWERARM JOINT ++++++++++++++++++++++++++++++ -->
  <joint name="lowerarm_joint" type="revolute">
    <parent link="lowerarm_link"/>
    <child link="wrist1_link"/>
    <origin rpy="0 0 0" xyz="-0.1 0 0.322"/>
    <limit effort="100" lower="-3.14" upper="3.14" velocity="100"/>
    <axis xyz="0 0 1"/>
  </joint>
  <!-- ++++++++++++++++++++++++++++++ LOWERARM JOINT TRANSMISSION ++++++++++++++++++++++++++++++ -->
  <transmission name="lowerarm_joint_transmission">
    <type>transmission_interface/SimpleTransmission</type>
    <joint name="lowerarm_joint">
      <hardwareInterface>hardware_interface/PositionJointInterface</hardwareInterface>
    </joint>
    <actuator name="lowerarm_joint_actuator">
      <mechanicalReduction>100</mechanicalReduction>
      <hardwareInterface>hardware_interface/PositionJointInterface</hardwareInterface>
    </actuator>
  </transmission>
  <!-- ++++++++++++++++++++++++++++++ WRIST 1 LINK++++++++++++++++++++++++++++++ -->
  <link name="wrist1_link">
    <visual>
      <origin rpy="0 0 0" xyz="0 0 0"/>
      <geometry>
        <mesh filename="package://atalante_arm_description/meshes/Wrist1.stl" scale="0.001 0.001 0.001"/>
      </geometry>
    </visual>
    <inertial>
      <origin xyz="22.41878403 -1.60637441 -1.37756169"/>
      <mass value="0.4"/>
      <inertia ixx="133.3009293" ixy="-1.78142776" ixz="-0.10188657" iyy="176.98787047" iyz="-0.0029648" izz="190.88216684"/>
    </inertial>
    <collision>
      <geometry>
        <mesh filename="package://atalante_arm_description/meshes/Wrist1.stl" scale="0.001 0.001 0.001"/>
      </geometry>
    </collision>
  </link>
  <!-- ++++++++++++++++++++++++++++++ WRIST 1 JOINT ++++++++++++++++++++++++++++++ -->
  <joint name="wrist1_joint" type="revolute">
    <parent link="wrist1_link"/>
    <child link="wrist2_link"/>
    <origin rpy="0 0 0" xyz="0 -0.028 0.086"/>
    <limit effort="100" lower="-3.14" upper="3.14" velocity="10"/>
    <axis xyz="0 1 0"/>
  </joint>
  <!-- ++++++++++++++++++++++++++++++ WRIST1 JOINT TRANSMISSION ++++++++++++++++++++++++++++++ -->
  <transmission name="wrist1_joint_transmission">
    <type>transmission_interface/SimpleTransmission</type>
    <joint name="wrist1_joint">
      <hardwareInterface>hardware_interface/PositionJointInterface</hardwareInterface>
    </joint>
    <actuator name="wrist1_joint_actuator">
      <mechanicalReduction>100</mechanicalReduction>
      <hardwareInterface>hardware_interface/PositionJointInterface</hardwareInterface>
    </actuator>
  </transmission>
  <!-- ++++++++++++++++++++++++++++++ WRIST 2 LINK ++++++++++++++++++++++++++++++ -->
  <link name="wrist2_link">
    <visual>
      <origin rpy="0 0 0" xyz="0 0 0"/>
      <geometry>
        <mesh filename="package://atalante_arm_description/meshes/Wrist2.stl" scale="0.001 0.001 0.001"/>
      </geometry>
    </visual>
    <inertial>
      <origin xyz="0.20021449 -36.02935097 7.88614191"/>
      <mass value="0.65"/>
      <inertia ixx="110.75606319" ixy="-4.91849466" ixz="6.24455991" iyy="150.75637725" iyz="-3.60438492" izz="107.37472304"/>
    </inertial>
    <collision>
      <geometry>
        <mesh filename="package://atalante_arm_description/meshes/Wrist2.stl" scale="0.001 0.001 0.001"/>
      </geometry>
    </collision>
  </link>
  <!-- ++++++++++++++++++++++++++++++ WRIST 2 JOINT ++++++++++++++++++++++++++++++ -->
  <joint name="wrist2_joint" type="revolute">
    <parent link="wrist2_link"/>
    <child link="ee_link"/>
    <origin rpy="0 0 1.57" xyz="-0.021 0.029 0"/>
    <limit effort="100" lower="-3.14" upper="3.14" velocity="10"/>
    <axis xyz="0 1 0"/>
  </joint>
  <!-- ++++++++++++++++++++++++++++++ WRIST2 JOINT TRANSMISSION ++++++++++++++++++++++++++++++ -->
  <transmission name="wrist2_joint_transmission">
    <type>transmission_interface/SimpleTransmission</type>
    <joint name="wrist2_joint">
      <hardwareInterface>hardware_interface/PositionJointInterface</hardwareInterface>
    </joint>
    <actuator name="wrist2_joint_actuator">
      <mechanicalReduction>100</mechanicalReduction>
      <hardwareInterface>hardware_interface/PositionJointInterface</hardwareInterface>
    </actuator>
  </transmission>
  <!-- ++++++++++++++++++++++++++++++ EE LINK ++++++++++++++++++++++++++++++ -->
  <link name="ee_link">
    <visual>
      <origin rpy="0 0 0" xyz="0 0 0"/>
      <geometry>
        <mesh filename="package://atalante_arm_description/meshes/Gripper.stl" scale="0.001 0.001 0.001"/>
      </geometry>
    </visual>
    <inertial>
      <origin xyz="0.42859032 -27.06725379 127.79091526"/>
      <mass value="0.7"/>
      <inertia ixx="4139.07069164" ixy="-0.15958964" ixz="5.836e-05" iyy="3555.89303312" iyz="0.00019969" izz="704.56312596"/>
    </inertial>
    <collision>
      <geometry>
        <mesh filename="package://atalante_arm_description/meshes/Gripper.stl" scale="0.001 0.001 0.001"/>
      </geometry>
    </collision>
  </link>
  <!-- ++++++++++++++++++++++++++++++ PROPERTIES ++++++++++++++++++++++++++++++ -->
  <joint name="drill_base_joint" type="fixed">
    <parent link="base_frame_link"/>
    <child link="drill_base_link"/>
    <origin rpy="0 0 0" xyz="0.22 -0.14 -0.17"/>
  </joint>
  <!-- ++++++++++++++++++++++++++++++ BASE LINK ++++++++++++++++++++++++++++++ -->
  <link name="drill_base_link">
    <visual>
      <origin rpy="1.57 0 0" xyz="0 0 0"/>
      <geometry>
        <box size="0.13 0.04 0.045"/>
      </geometry>
    </visual>
    <collision>
      <geometry>
        <box size="0.13 0.04 0.045"/>
      </geometry>
    </collision>
  </link>
  <!-- ++++++++++++++++++++++++++++++ PRISMATIC JOINT ++++++++++++++++++++++++++++++ -->
  <joint name="prismatic_joint" type="prismatic">
    <parent link="drill_base_link"/>
    <child link="drillmount_link"/>
    <origin rpy="1.57 0 0" xyz="0 0.0545 0.508"/>
    <limit effort="10" lower="0" upper="0.39" velocity="10"/>
    <axis xyz="0 1 0"/>
  </joint>
  <!-- ++++++++++++++++++++++++++++++ PRISMATIC JOINT TRANSMISSION ++++++++++++++++++++++++++++++ -->
  <transmission name="prismatic_joint_transmission">
    <type>transmission_interface/SimpleTransmission</type>
    <joint name="prismatic_joint">
      <hardwareInterface>hardware_interface/PositionJointInterface</hardwareInterface>
    </joint>
    <actuator name="prismatic_joint_actuator">
      <mechanicalReduction>100</mechanicalReduction>
      <hardwareInterface>hardware_interface/PositionJointInterface</hardwareInterface>
    </actuator>
  </transmission>
  <!-- ++++++++++++++++++++++++++++++ DRILLMOUNT LINK ++++++++++++++++++++++++++++++ -->
  <link name="drillmount_link">
    <visual>
      <origin rpy="0 0 0" xyz="0 0 0"/>
      <geometry>
        <box size="0.145 0.19 0.154"/>
      </geometry>
    </visual>
    <collision>
      <geometry>
        <box size="0.145 0.19 0.154"/>
      </geometry>
    </collision>
  </link>
  <!-- ++++++++++++++++++++++++++++++ CONTINUOUS JOINT ++++++++++++++++++++++++++++++ -->
  <joint name="continuous_joint" type="continuous">
    <parent link="drillmount_link"/>
    <child link="drill_link"/>
    <origin rpy="1.57 0 0" xyz="0 -0.346 -0.028"/>
    <axis xyz="0 0 1"/>
  </joint>
  <!-- ++++++++++++++++++++++++++++++ CONTINUOUS JOINT TRANSMISSION ++++++++++++++++++++++++++++++ -->
  <transmission name="continuous_joint_transmission">
    <type>transmission_interface/SimpleTransmission</type>
    <joint name="continuous_joint">
      <hardwareInterface>hardware_interface/VelocityJointInterface</hardwareInterface>
    </joint>
    <actuator name="continuous_joint_actuator">
      <mechanicalReduction>100</mechanicalReduction>
      <hardwareInterface>hardware_interface/VelocityJointInterface</hardwareInterface>
    </actuator>
  </transmission>
  <!-- ++++++++++++++++++++++++++++++ DRILL LINK ++++++++++++++++++++++++++++++ -->
  <link name="drill_link">
    <visual>
      <origin rpy="0 0 0" xyz="0 0 0"/>
      <geometry>
        <cylinder length="0.5" radius="0.025"/>
      </geometry>
    </visual>
    <collision>
      <geometry>
        <cylinder length="0.5" radius="0.025"/>
      </geometry>
    </collision>
  </link>
  <!--<orthos_joint_pub joints='orthos_wheel_left_3_joint, orthos_wheel_right_3_joint, orthos_wheel_left_1_joint, orthos_wheel_right_1_joint'		/>-->
  <!--<orthos_drive/>-->
</robot>
